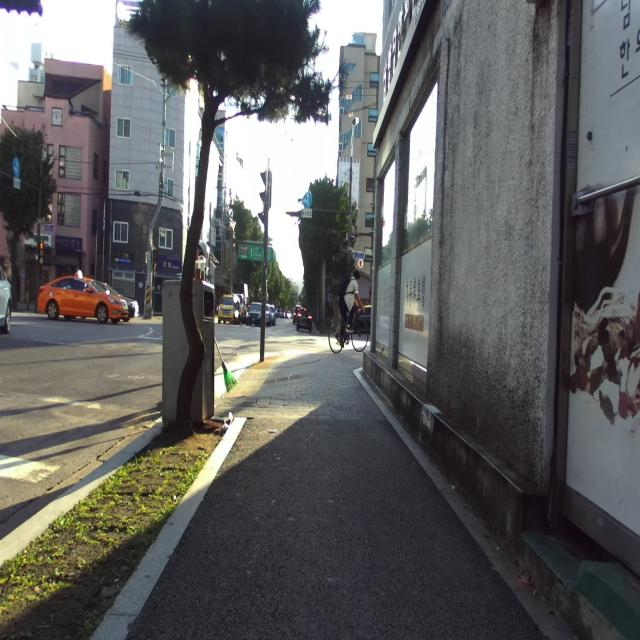빨간불: (39, 242, 44, 264)
